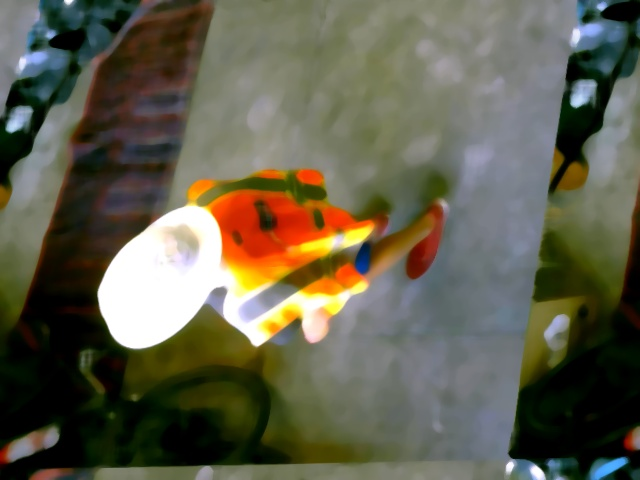eight: (142, 232, 199, 284)
